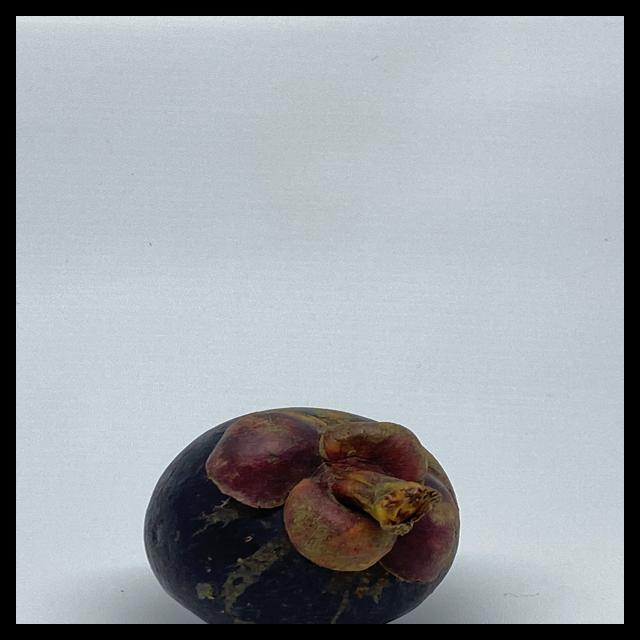mangosteen: (143, 381, 476, 624)
